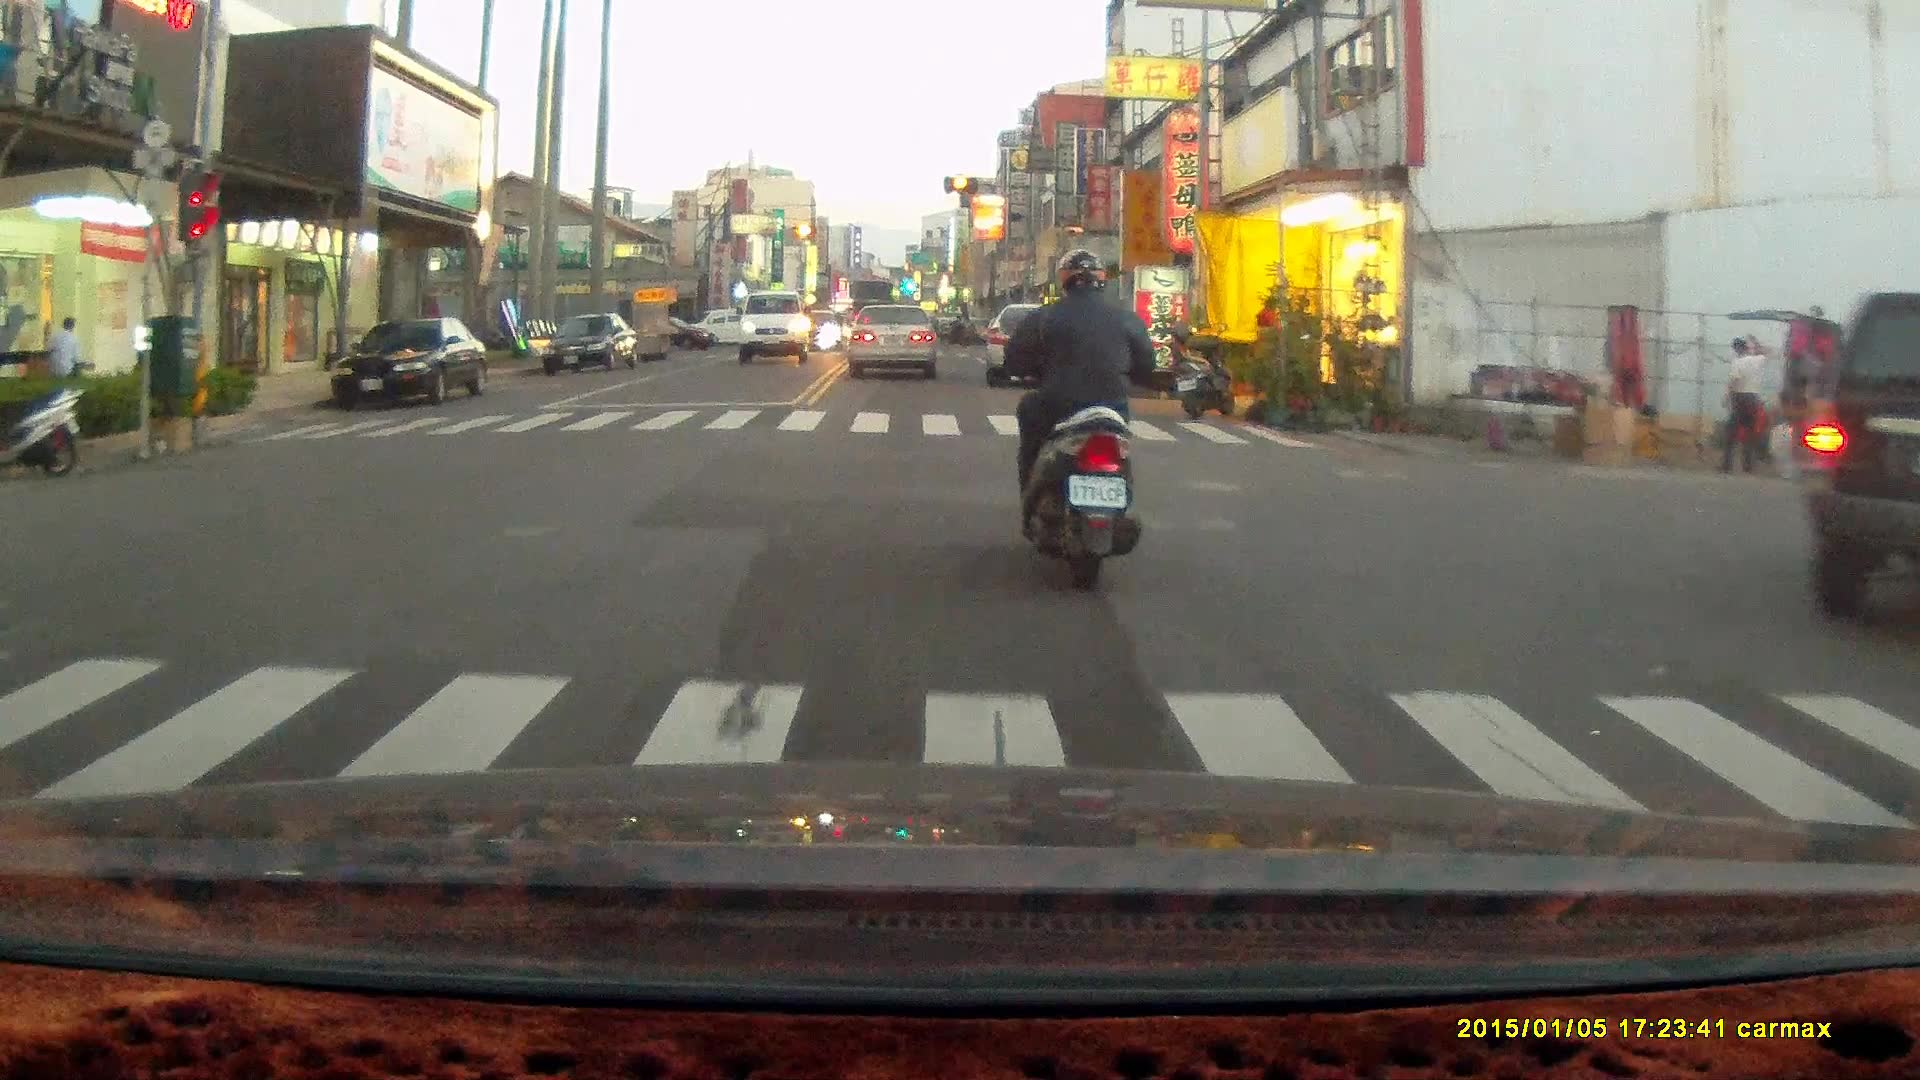pedestrian: (1718, 334, 1769, 476), (1250, 293, 1285, 409), (50, 315, 82, 391)
rider: (998, 246, 1156, 591)
vehicle: (1800, 281, 1920, 626), (327, 317, 487, 415), (849, 302, 939, 379), (544, 314, 640, 378), (739, 291, 812, 365)
